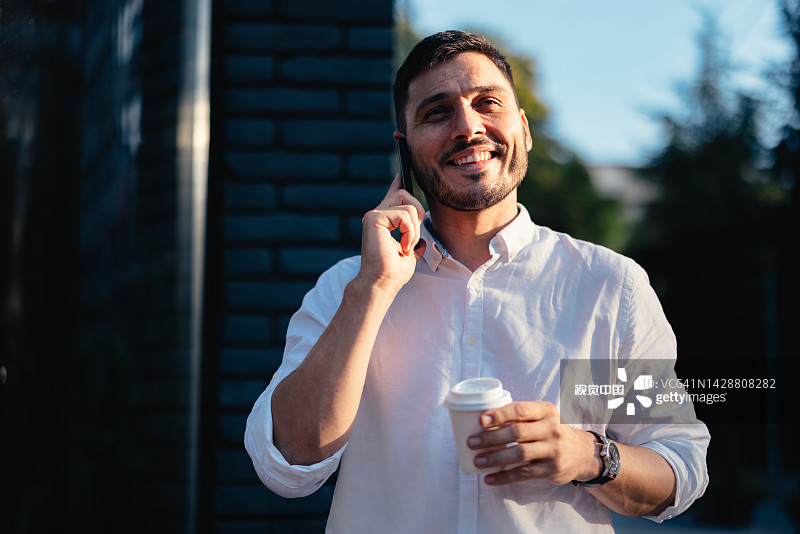calling: (335, 131, 453, 319)
no-phone: (433, 370, 603, 505)
